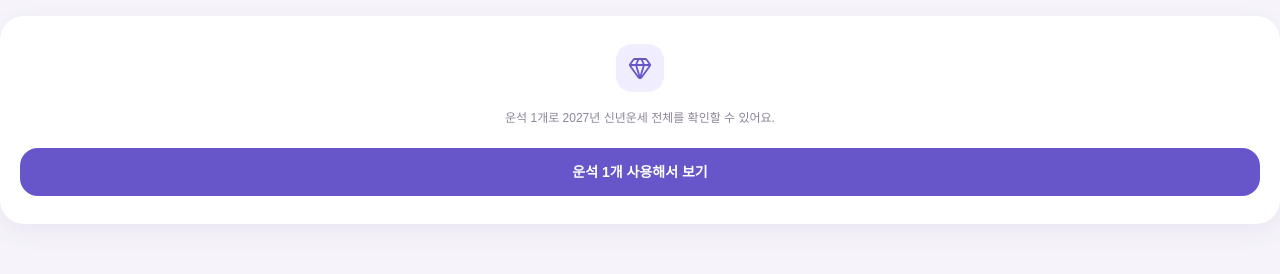
Test: YearlyFortuneUnlock › shows an insufficient state from either GET balance or POST error
This screenshot has width=1280, height=274.
Later steps or results of the test are not shown.
Step 1. Click the button "운석 1개 사용해서 보기" → (640, 172), box [20,148,1260,196]
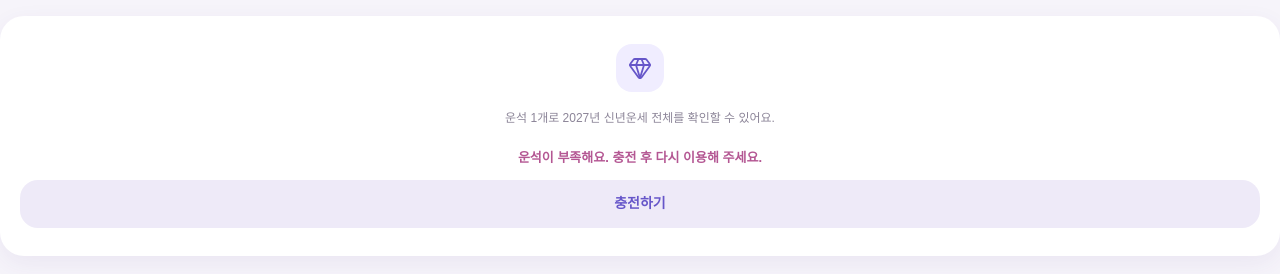
Expected: the text "운석이 부족해요. 충전 후 다시 이용해 주세요." is shown, [518,150,762,165]
